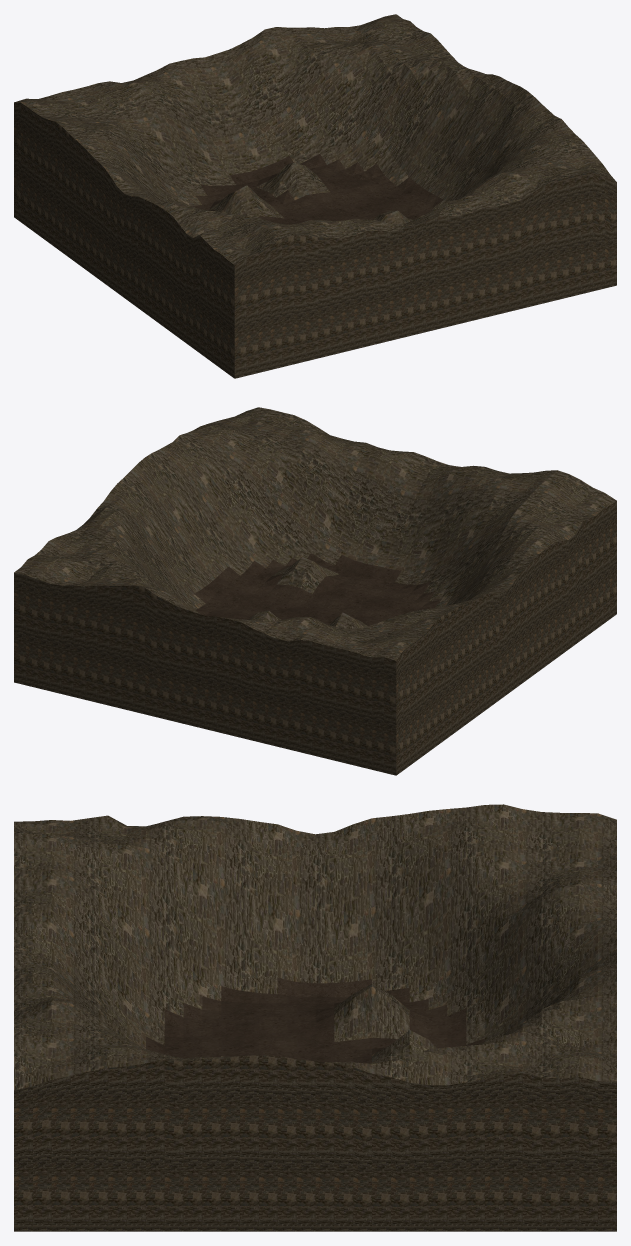
Rendered from cave_floor_01.glb.
3 renders of one model, top to bottom at view 1: azimuth 30°, elevation 25°; view 2: azimuth 150°, elevation 25°; view 3: azimuth 270°, elevation 25°, orthographic. The views are drawn at different scales.
Parts seen in each view (by area): view 1: cave_floor_01; view 2: cave_floor_01; view 3: cave_floor_01.
Part boxes in pixels (x1=…): cave_floor_01: x1=14, y1=14, x2=616, y2=378; cave_floor_01: x1=14, y1=407, x2=616, y2=775; cave_floor_01: x1=14, y1=804, x2=616, y2=1231.
Size of the model in its own units: 16 by 5.18 by 16.
Materials: 3 (3 with a texture image).
